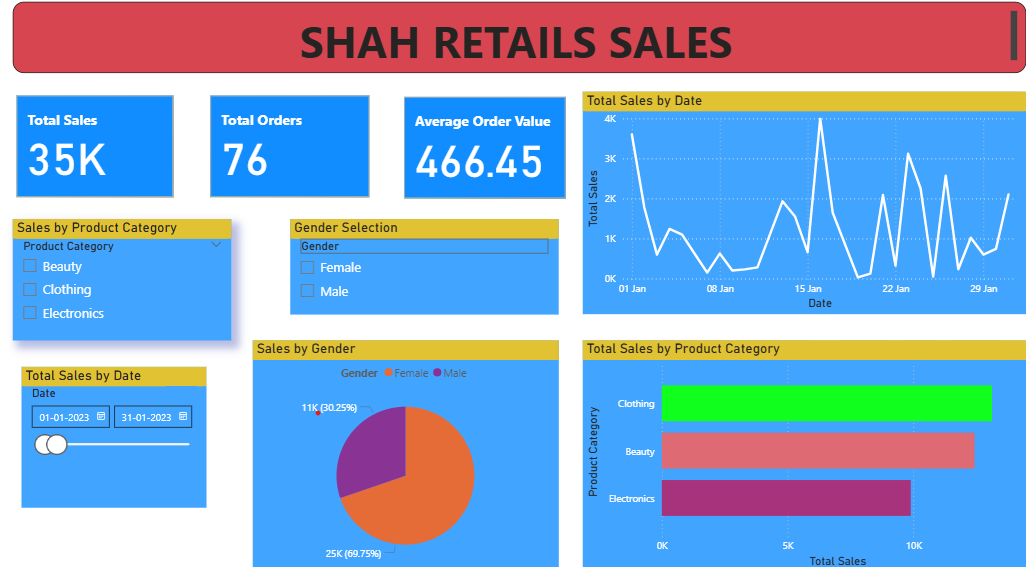

This screenshot's page, from the dashboard's own definition file:
{"tool":"powerbi","page":{"name":"Overview","canvas":[1280,720],"ordinal":0},"visuals":[{"type":"cardVisual","title":"Total Sales","fields":{"Data":["retail_sales_dataset.Total Sales"]},"box":[29.3,128,203.6,135.7],"z":0},{"type":"cardVisual","fields":{"Data":["retail_sales_dataset.Total Orders"]},"box":[268.3,128,206.7,135.7],"z":1000},{"type":"cardVisual","fields":{"Data":["retail_sales_dataset.Average Order Value"]},"box":[507.4,129.5,209.7,135.7],"z":2000},{"type":"barChart","title":"Total Sales by Product Category","fields":{"Y":["retail_sales_dataset.Total Sales"],"Category":["retail_sales_dataset.Product Category"]},"box":[732.5,434.9,547.5,285.3],"z":3000},{"type":"lineChart","fields":{"Y":["retail_sales_dataset.Total Sales"],"Category":["retail_sales_dataset.Date"]},"box":[732.5,128,547.5,274.5],"z":4000},{"type":"pieChart","title":"Sales by Gender","fields":{"Category":["retail_sales_dataset.Gender"],"Y":["retail_sales_dataset.Total Sales"]},"box":[325.4,434.9,377.8,285.3],"z":5000},{"type":"slicer","title":"Total Sales by Date","fields":{"Values":["retail_sales_dataset.Date"]},"box":[40.1,467.3,228.2,172.7],"z":6000},{"type":"slicer","title":"Gender Selection","fields":{"Values":["retail_sales_dataset.Gender"]},"box":[371.7,285.3,331.6,117.2],"z":7000},{"type":"slicer","title":"Sales by Product Category","fields":{"Values":["retail_sales_dataset.Product Category"]},"box":[29.3,285.3,269.9,149.6],"z":8000},{"type":"textbox","box":[29.3,17,1250.7,87.9],"z":9000}]}

Visuals, with their boxes in screenshot pixels (x1, y1, x2, y2), scaled from the page's 1280x720 canvas onto the 1026x567 screenshot:
"Total Sales" cardVisual: rect(23, 101, 187, 208)
cardVisual - retail_sales_dataset.Total Orders: rect(215, 101, 381, 208)
cardVisual - retail_sales_dataset.Average Order Value: rect(407, 102, 575, 209)
"Total Sales by Product Category" barChart: rect(587, 342, 1025, 566)
lineChart - retail_sales_dataset.Total Sales x retail_sales_dataset.Date: rect(587, 101, 1025, 317)
"Sales by Gender" pieChart: rect(261, 342, 564, 566)
"Total Sales by Date" slicer: rect(32, 368, 215, 504)
"Gender Selection" slicer: rect(298, 225, 564, 317)
"Sales by Product Category" slicer: rect(23, 225, 240, 342)
textbox: rect(23, 13, 1025, 83)
